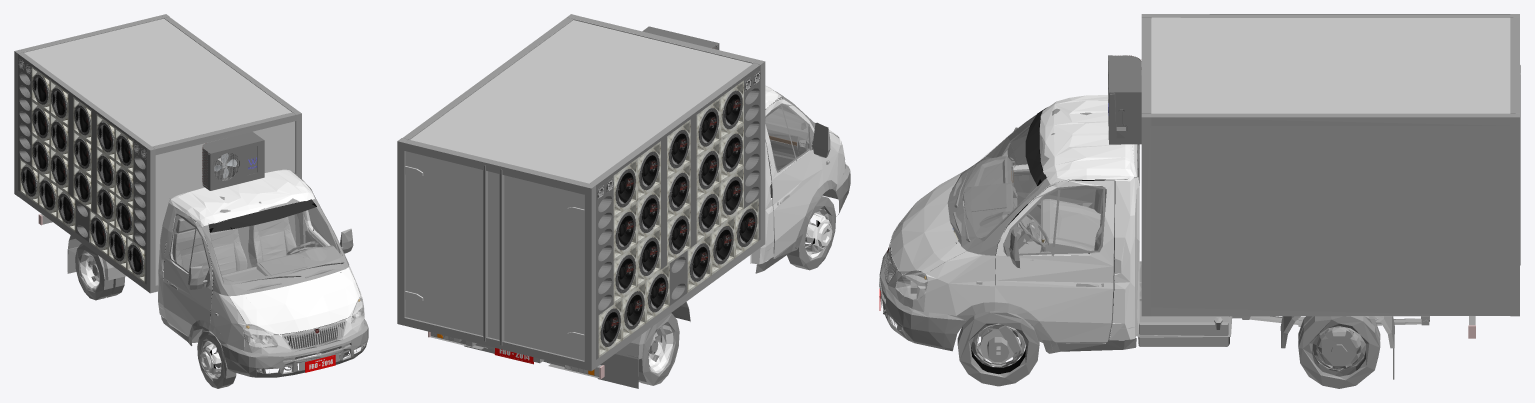
The model's file is carro_som.glb.
3 renders of one model, left to right at view 1: azimuth 30°, elevation 25°; view 2: azimuth 150°, elevation 25°; view 3: azimuth 270°, elevation 25°, orthographic. The views are drawn at different scales.
Size of what is drawn, in the model's own units: 1.88 by 2.23 by 4.6.
80 materials, 14 textured.
